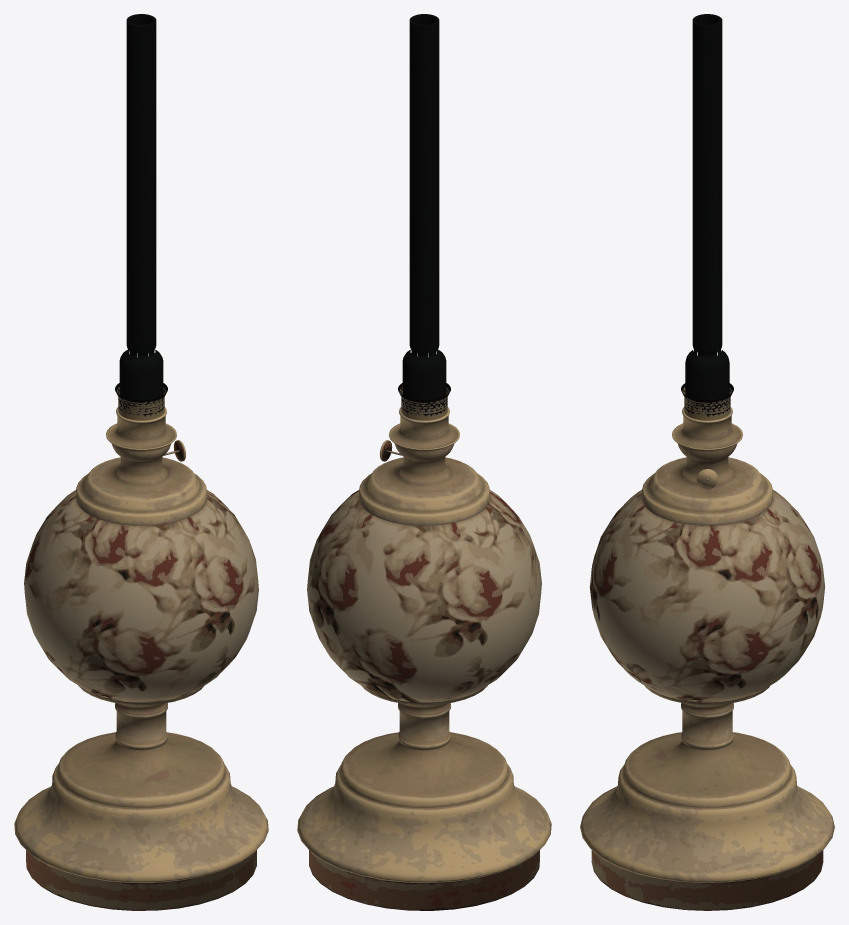
3 views of the same model, side by side, from view 1: azimuth 30°, elevation 25°; view 2: azimuth 150°, elevation 25°; view 3: azimuth 270°, elevation 25° (orthographic).
Parts seen in each view (by area): view 1: vintage_oil_lamp, vintage_oil_lamp_glass; view 2: vintage_oil_lamp, vintage_oil_lamp_glass; view 3: vintage_oil_lamp, vintage_oil_lamp_glass.
Part boxes in pixels (box(x1,y1,x2,y2)): vintage_oil_lamp: box(14, 407, 268, 910); vintage_oil_lamp_glass: box(115, 14, 167, 420); vintage_oil_lamp: box(297, 407, 551, 910); vintage_oil_lamp_glass: box(398, 14, 450, 420); vintage_oil_lamp: box(580, 407, 834, 910); vintage_oil_lamp_glass: box(681, 14, 733, 420).
Bounding box in the file's own units: 0.22 × 0.8016 × 0.22.
